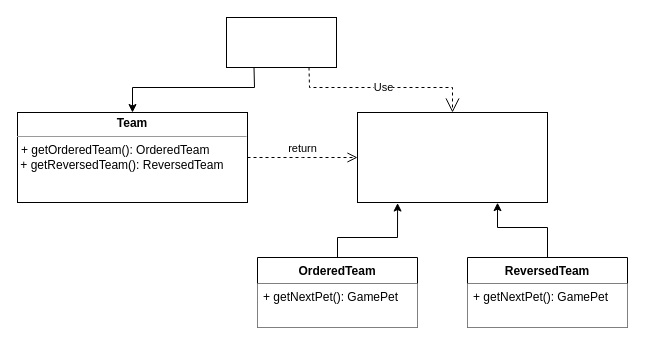
Image size: 645x348. Some labels were removed from this diagram. The shapes that lost their labels are listed below. From the top down, each one's box as (x1, y1, x2, y2) in pixels, then its label:
(226, 16, 336, 68): BattleRunner
(356, 112, 548, 202): <<Interface>> TeamOrdering + getNextPet(): GamePet
